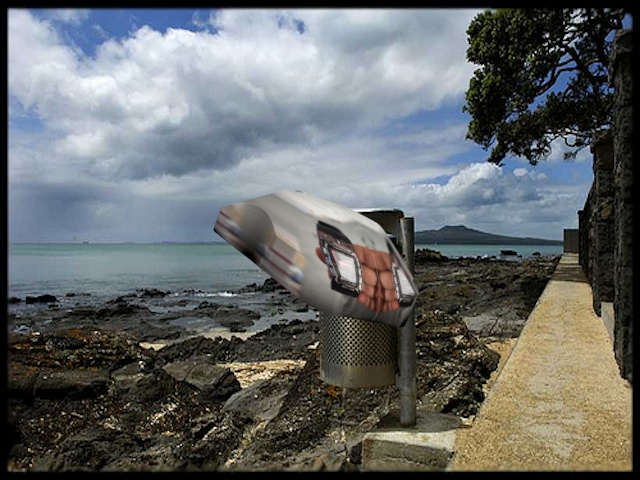mouse: (208, 185, 432, 328)
